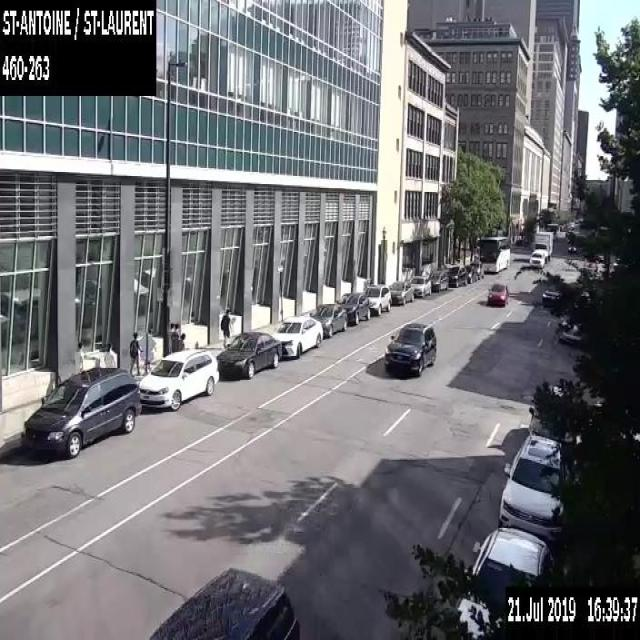bus: (478, 235, 509, 272)
construction: (138, 329, 156, 363)
pedestrian: (128, 330, 143, 374), (220, 306, 233, 346), (71, 340, 84, 373), (104, 340, 117, 367), (170, 321, 179, 352), (168, 321, 175, 352), (177, 332, 186, 350)
vehicle: (146, 565, 301, 639), (454, 526, 554, 635), (24, 366, 141, 458), (498, 433, 569, 543), (138, 348, 218, 410), (528, 384, 576, 451), (216, 330, 280, 378), (383, 320, 436, 377), (272, 314, 322, 357), (309, 302, 347, 337), (338, 291, 370, 324), (363, 283, 391, 314), (560, 311, 582, 342), (533, 230, 552, 262), (388, 280, 413, 304), (408, 274, 430, 298), (446, 265, 468, 287), (427, 269, 448, 292), (487, 282, 508, 305), (542, 281, 561, 306), (529, 248, 544, 267), (469, 259, 483, 279), (464, 264, 476, 282), (546, 222, 558, 239), (587, 261, 597, 271), (567, 241, 576, 251), (566, 225, 573, 235)
